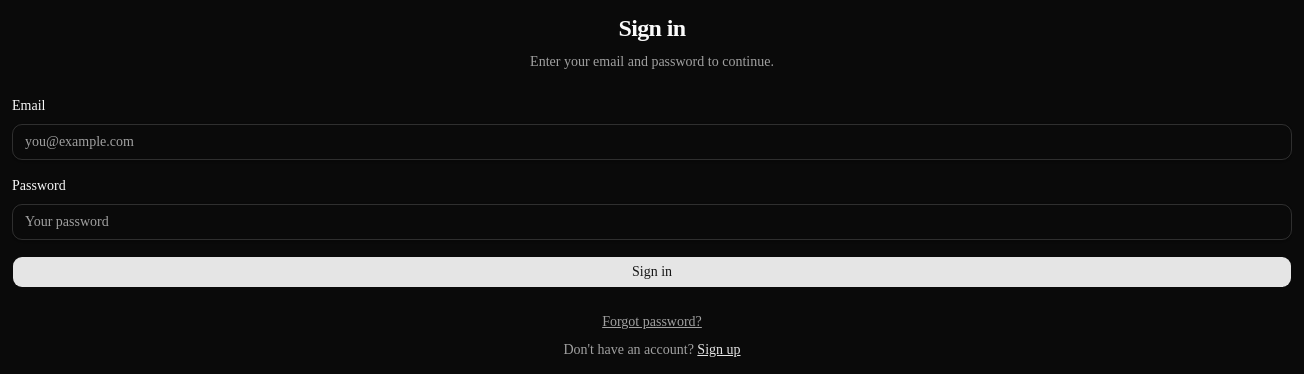
Test: Authentication Flow › Login Page › disables button while signing in
In the field labelled "Email": [652, 142] box [12,124,1292,160], type "user@example.com"
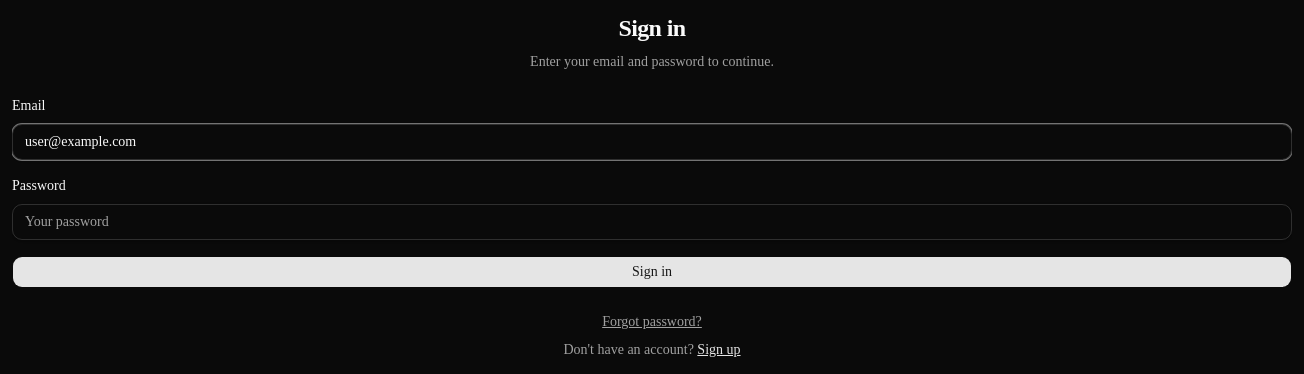
In the password field labelled "Password": [652, 222] box [12,204,1292,240], type "pass123"
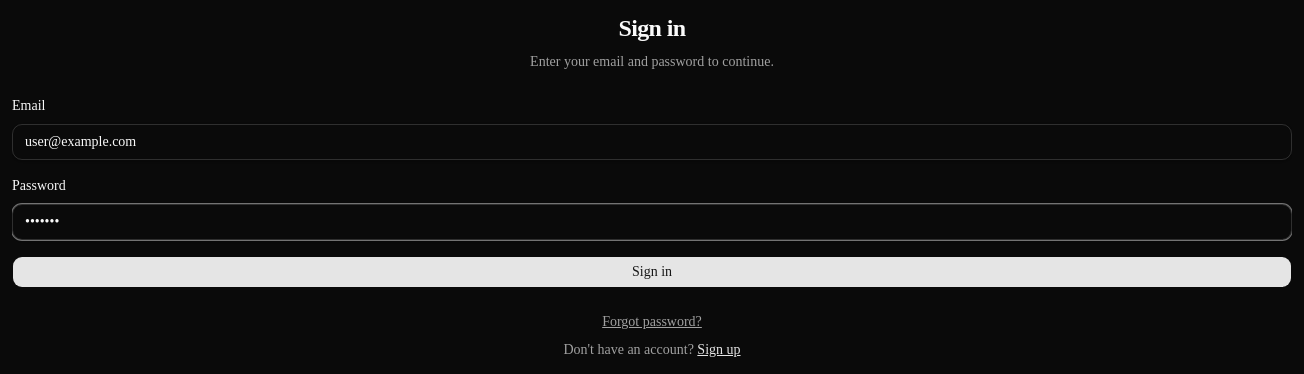
Click the button "Sign in": [652, 272] box [12,256,1292,288]
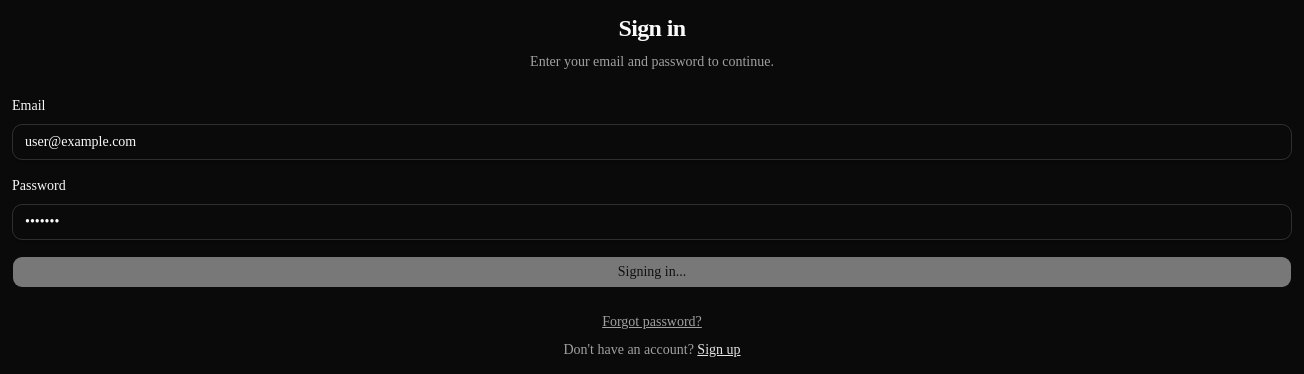
Result: the button "Signing in..." is disabled at [12,256,1292,288]
